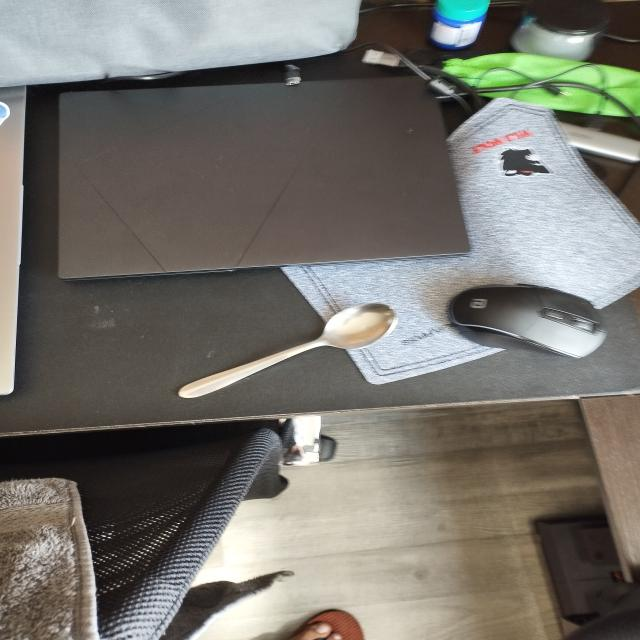Mouse: (428, 270, 615, 363)
Spoon: (156, 292, 411, 403)
